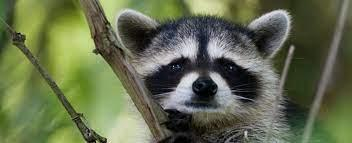raccoon: (99, 0, 346, 143)
